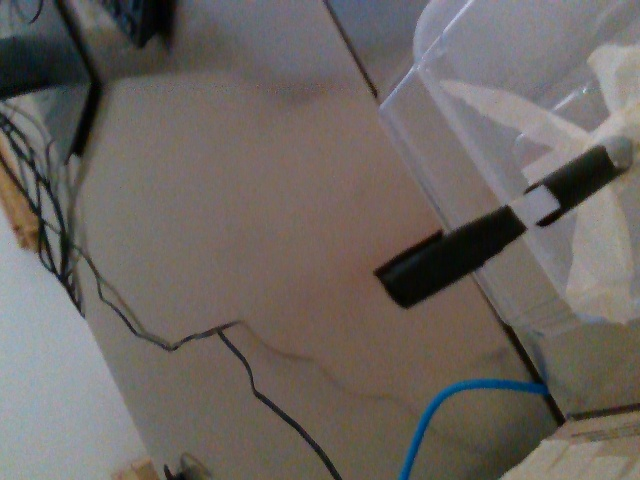test_strip: (373, 183, 560, 310)
